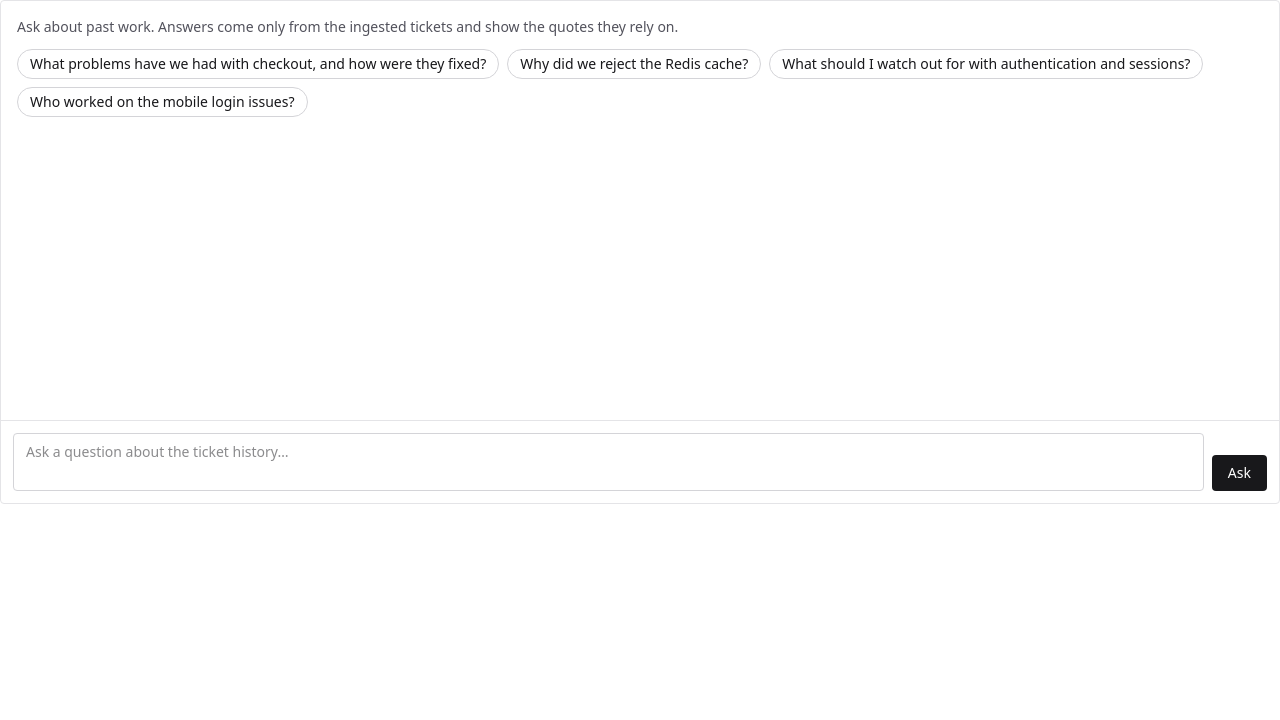
Chat › links [KEY] markers only for tickets that were actually sources
Type "q one" into the text box named "Your question" at (608, 462), box [13,433,1204,491]
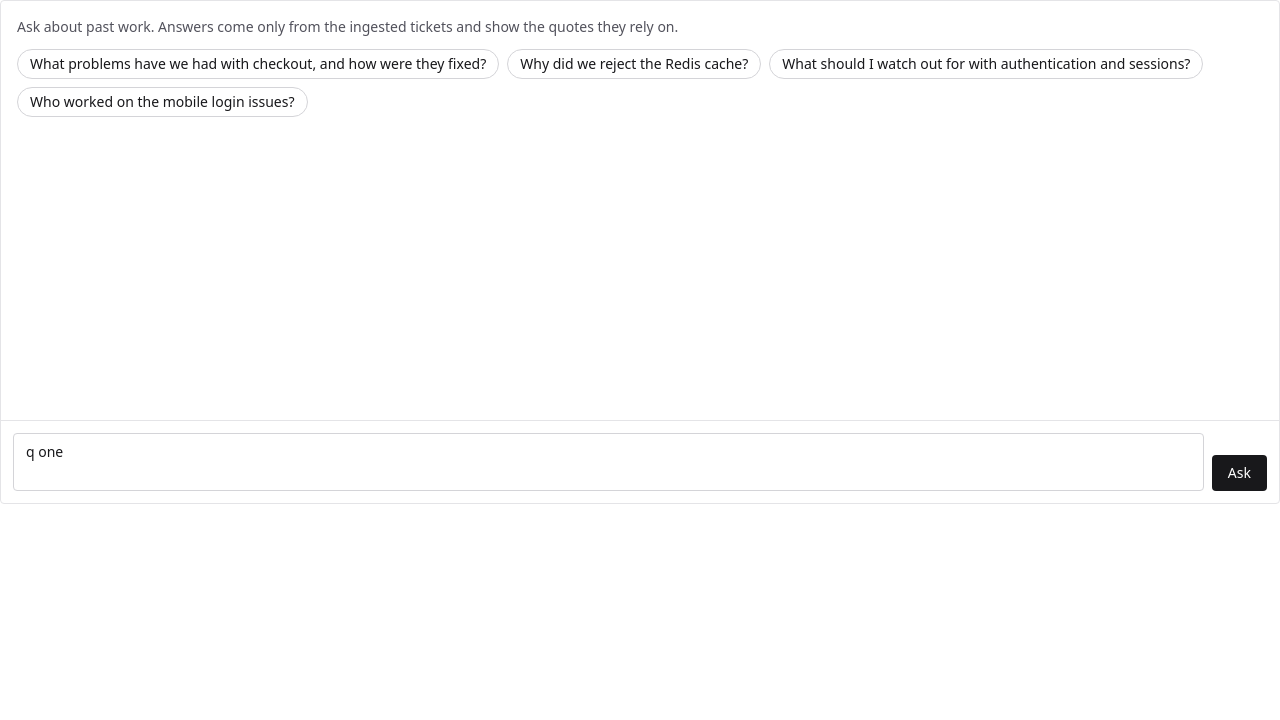
Click the button "Ask" at (1239, 473), box [1212,455,1267,491]
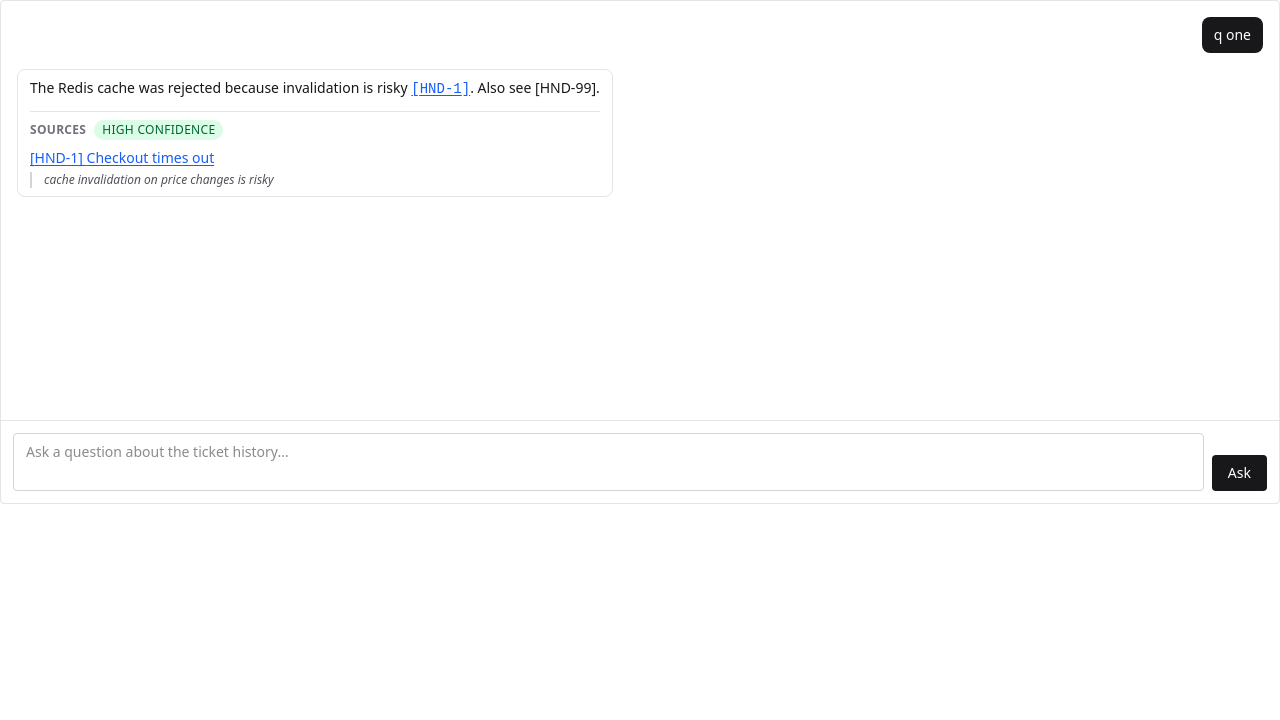
Expected: the text "Also see [HND-99]" is shown, [470,78,600,97]
